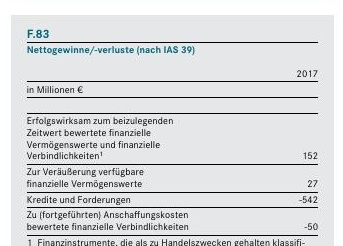table: (0, 0, 343, 246)
